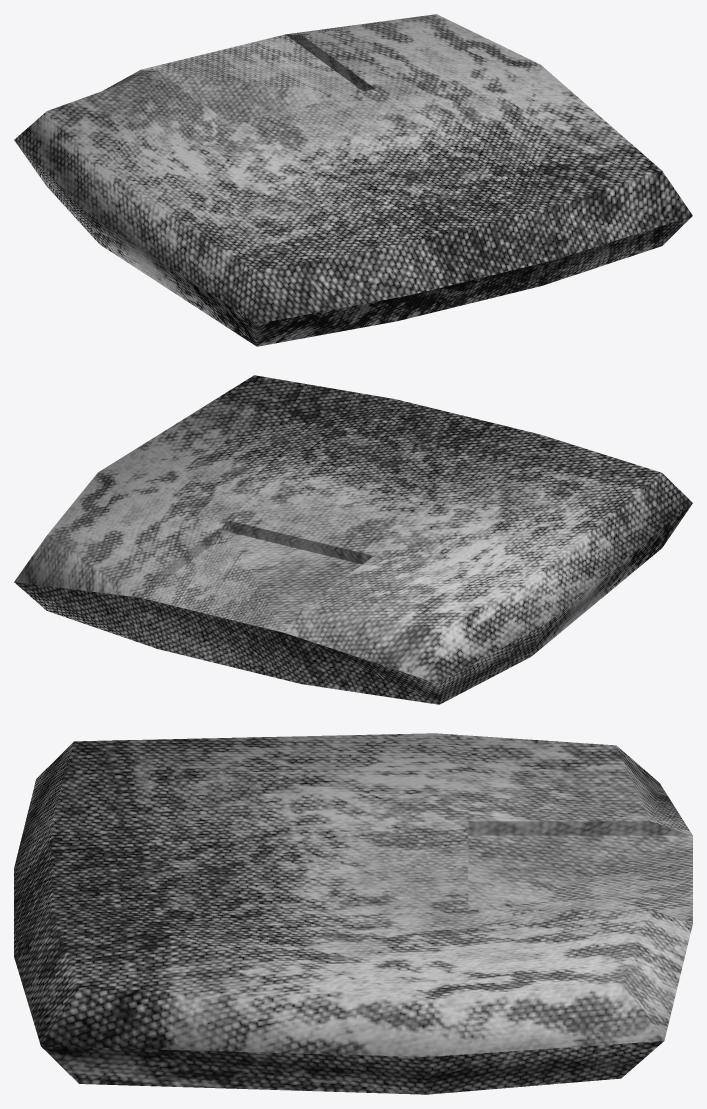
The model's file is ClothOrdenada.fbx.
3 views of the same model, one above another, from view 1: azimuth 30°, elevation 25°; view 2: azimuth 150°, elevation 25°; view 3: azimuth 270°, elevation 25° (orthographic). The views are drawn at different scales.
Visible parts, largest first — view 1: Cloth_Ordenada1; view 2: Cloth_Ordenada1; view 3: Cloth_Ordenada1.
Boxes of the visible parts, x1,y1,x2,y2 form: Cloth_Ordenada1: (14,14,692,346); Cloth_Ordenada1: (14,375,692,704); Cloth_Ordenada1: (14,733,692,1094).
Size of the model in its own units: 172 by 26.35 by 172.
1 material, 1 textured.
